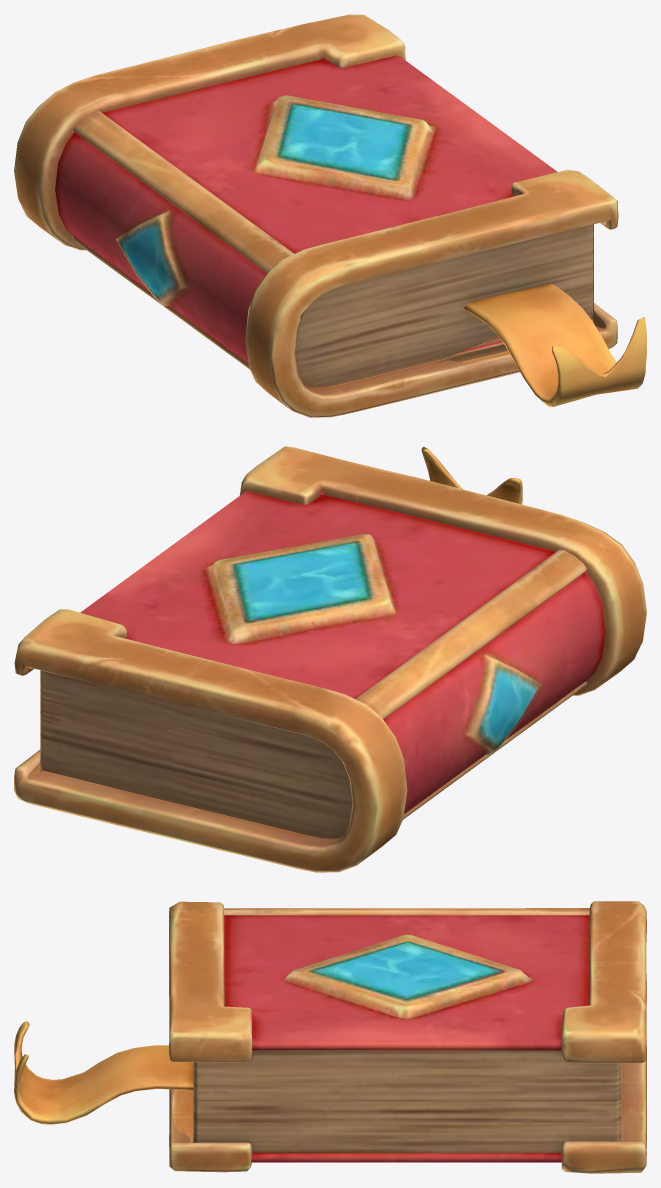
The picture shows the model from 3 angles, top to bottom: view 1: azimuth 30°, elevation 25°; view 2: azimuth 150°, elevation 25°; view 3: azimuth 270°, elevation 25°; orthographic projection. The views are drawn at different scales.
Parts seen in each view (by area): view 1: SM_Lore_Book_01_LOD0; view 2: SM_Lore_Book_01_LOD0; view 3: SM_Lore_Book_01_LOD0.
Boxes of the visible parts, left/top/right/bottom form: SM_Lore_Book_01_LOD0: left=14, top=14, right=646, bottom=417; SM_Lore_Book_01_LOD0: left=14, top=446, right=646, bottom=872; SM_Lore_Book_01_LOD0: left=14, top=901, right=646, bottom=1173.
Bounding box in the file's own units: 0.2949 × 0.1242 × 0.5018.
2 materials, 2 textured.
